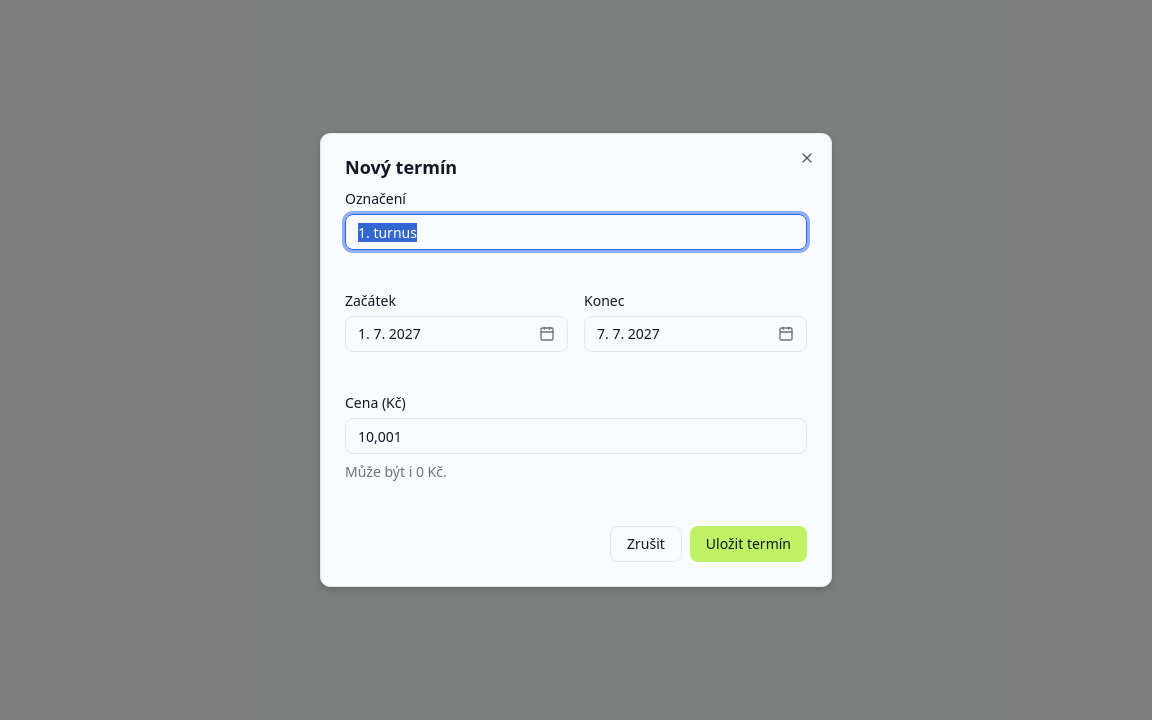
Test: TermForm › rejects the price 10,001
The width and height of the screenshot is (1152, 720).
Click the button "Uložit termín". click: (748, 544)
box: [690,526,807,562]
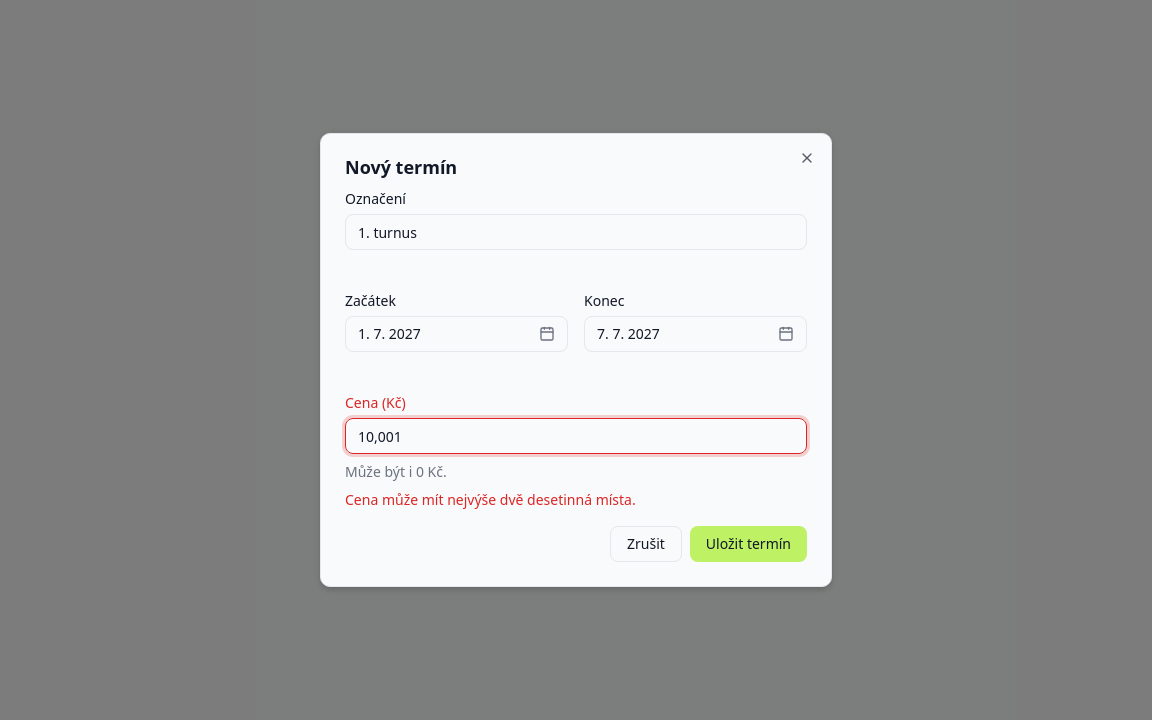
Expected: the text "Cena může mít nejvýše dvě desetinná místa." is shown, [345,490,636,509]
